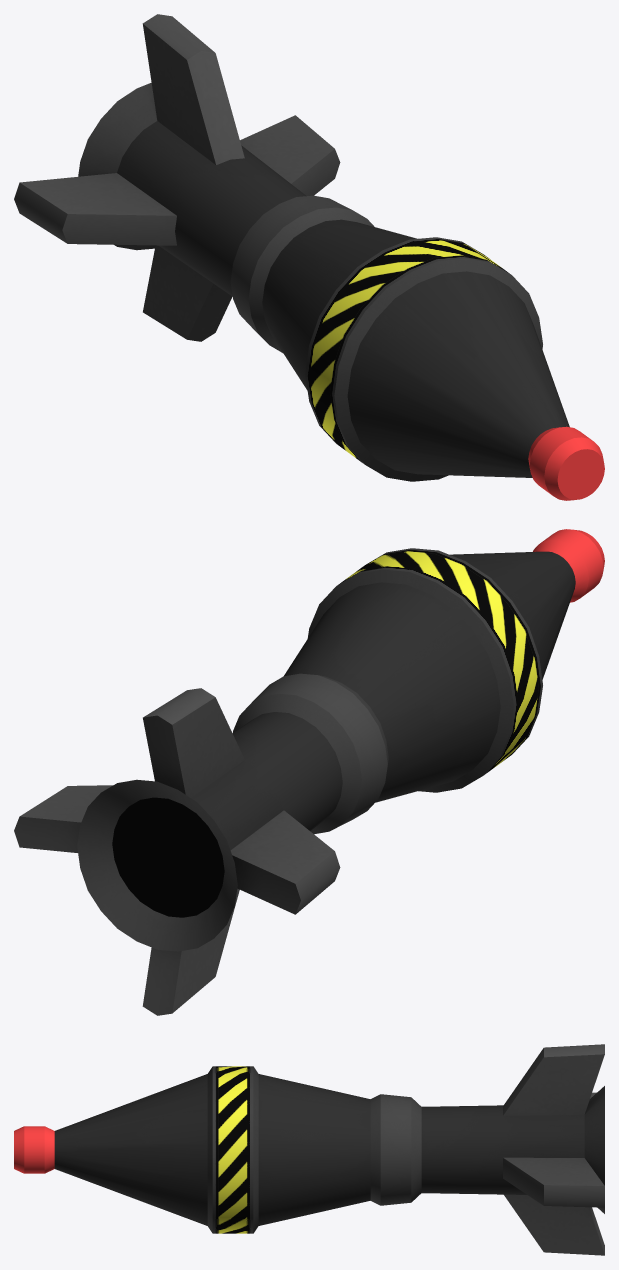
Rendered from rocket_launcher_projectile.fbx.
3 renders of one model, top to bottom at view 1: azimuth 30°, elevation 25°; view 2: azimuth 150°, elevation 25°; view 3: azimuth 270°, elevation 25°, orthographic. The views are drawn at different scales.
Parts seen in each view (by area): view 1: rocket_launcher_projectile; view 2: rocket_launcher_projectile; view 3: rocket_launcher_projectile.
Boxes of the visible parts, left/top/right/bottom form: rocket_launcher_projectile: left=14, top=14, right=604, bottom=500; rocket_launcher_projectile: left=14, top=529, right=604, bottom=1015; rocket_launcher_projectile: left=14, top=1044, right=604, bottom=1255.
Size of the model in its own units: 28.35 by 28.35 by 72.5.
